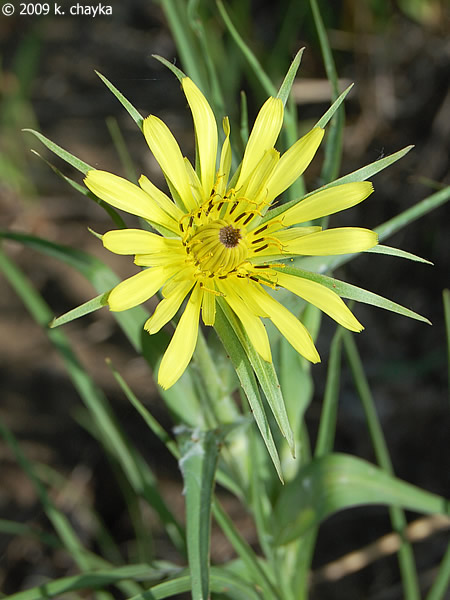dandelion: (78, 139, 346, 342)
